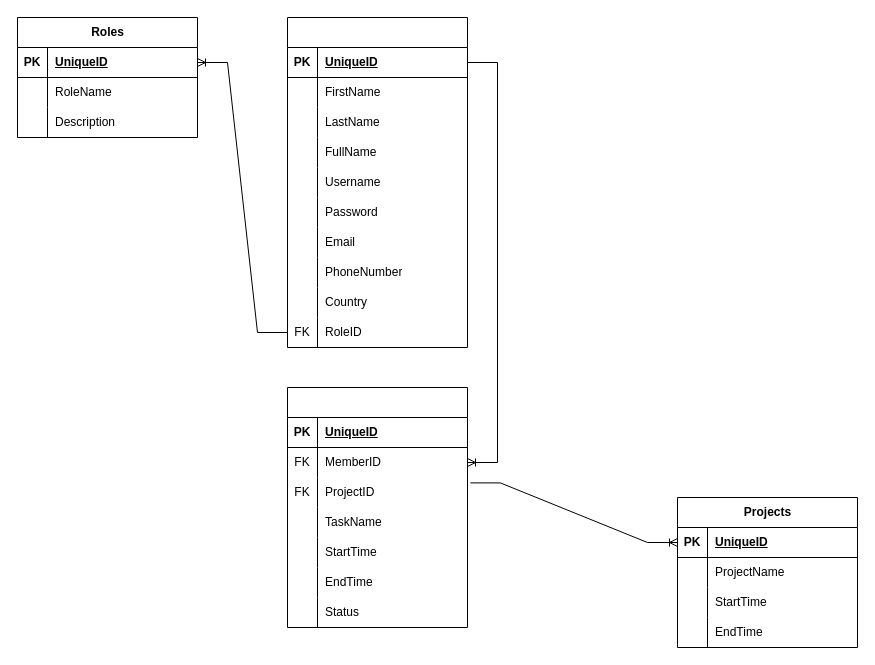
This 875x665 diagram has some shape labels left out. Here are the shapes that lost their labels. From the top down, the box of each, then its label:
(286, 16, 468, 348): Members
(286, 386, 468, 628): Tasks
